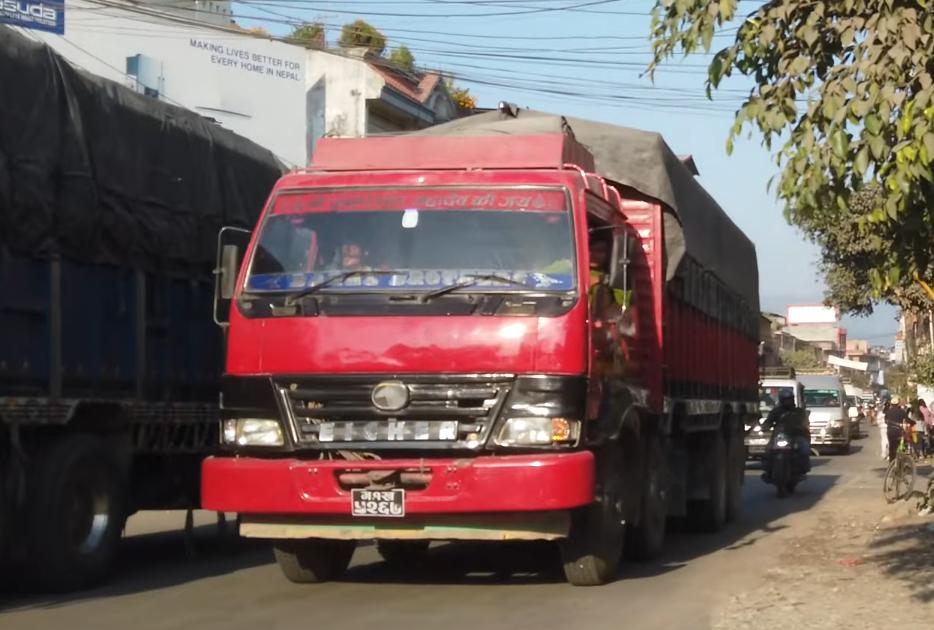micro_bus: (794, 360, 855, 457)
truck: (199, 102, 764, 587), (0, 19, 292, 591)
